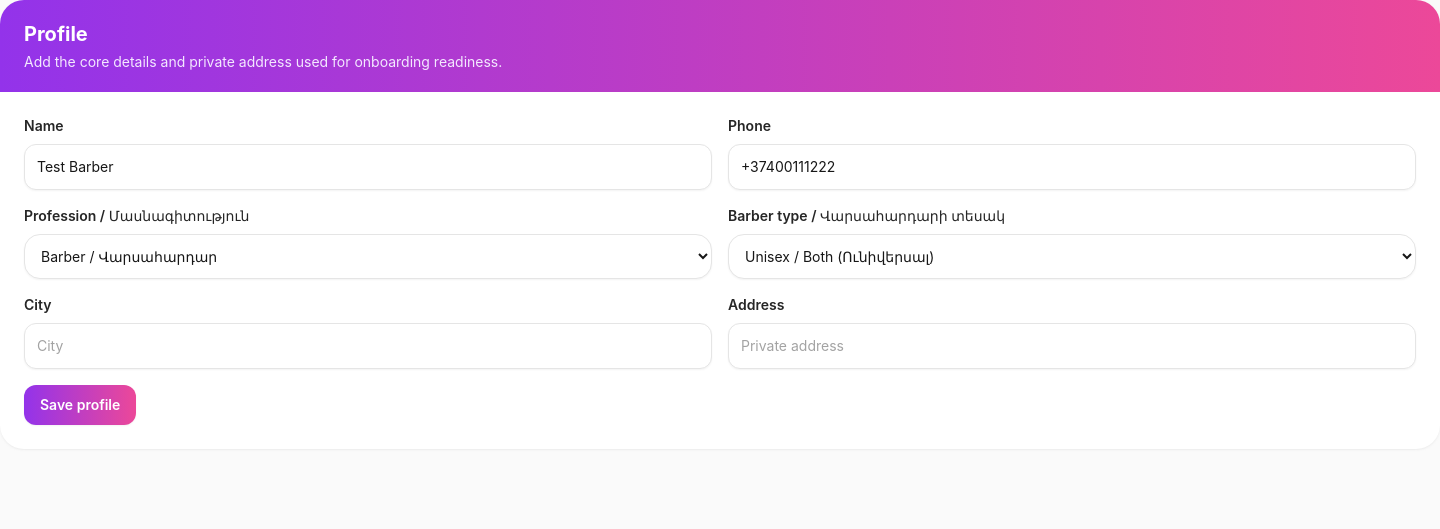
Test case: ProfessionalBasicsStep onboarding validation › reports both required fields in the editable professional basics form
This screenshot has width=1440, height=529.
Click the button "Save profile" at [80, 405], box [24, 385, 136, 425]
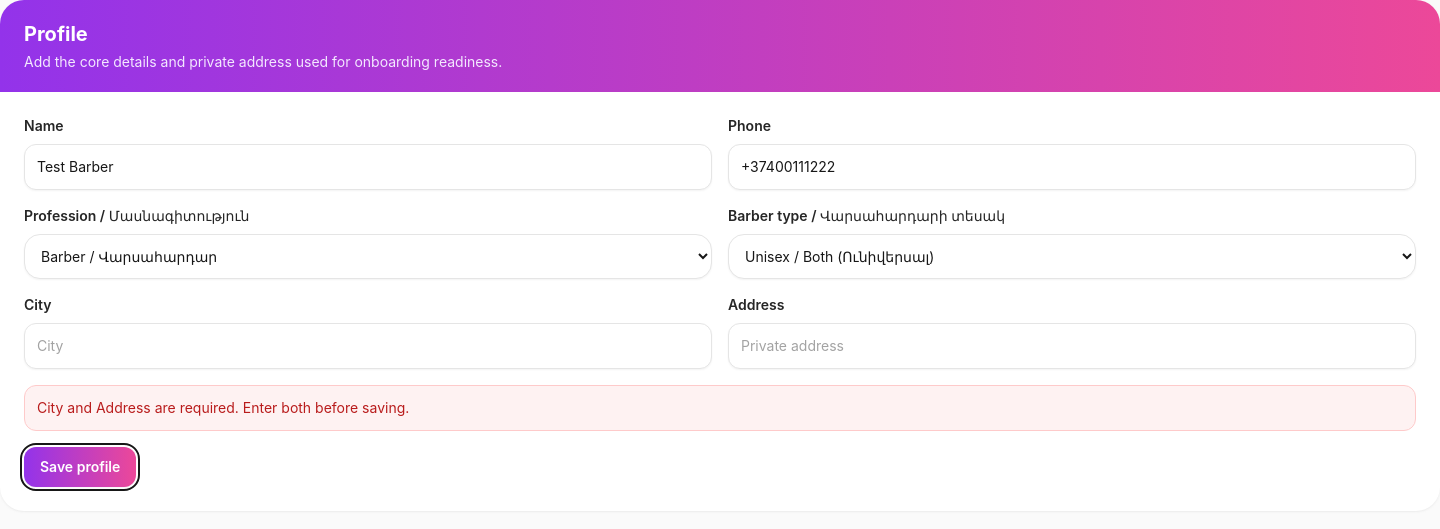
Expected: the field labelled "City" is shown, [24, 323, 712, 369]
Now the text "City and Address are required. Enter both before saving." is shown, box [24, 385, 1416, 431]
